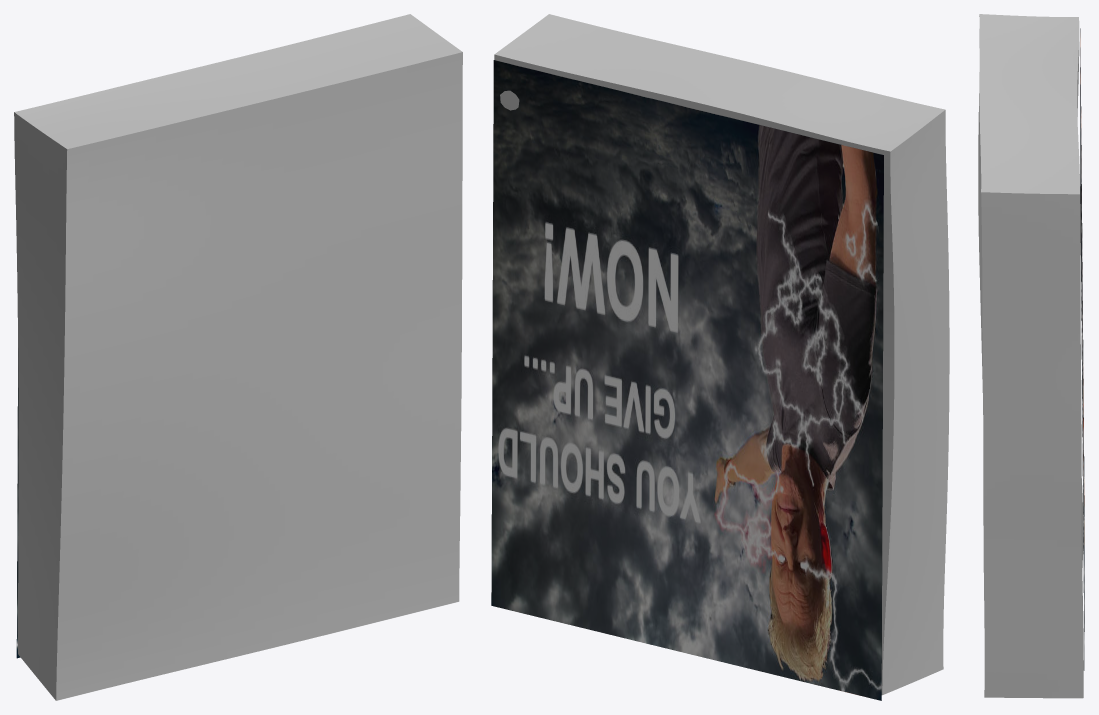
File: NOW.fbx
3 renders of one model, left to right at view 1: azimuth 30°, elevation 25°; view 2: azimuth 150°, elevation 25°; view 3: azimuth 270°, elevation 25°, orthographic. The views are drawn at different scales.
Visible parts, largest first — view 1: Cube; view 2: Plane, Cube; view 3: Cube, Plane.
Part boxes in pixels (box(x1,y1,x2,y2)): Cube: box(14, 14, 462, 700); Plane: box(491, 60, 883, 700); Cube: box(494, 14, 949, 695); Cube: box(978, 14, 1083, 698); Plane: box(1080, 28, 1084, 670).
Bounding box in the file's own units: 200 × 264 × 49.91.
